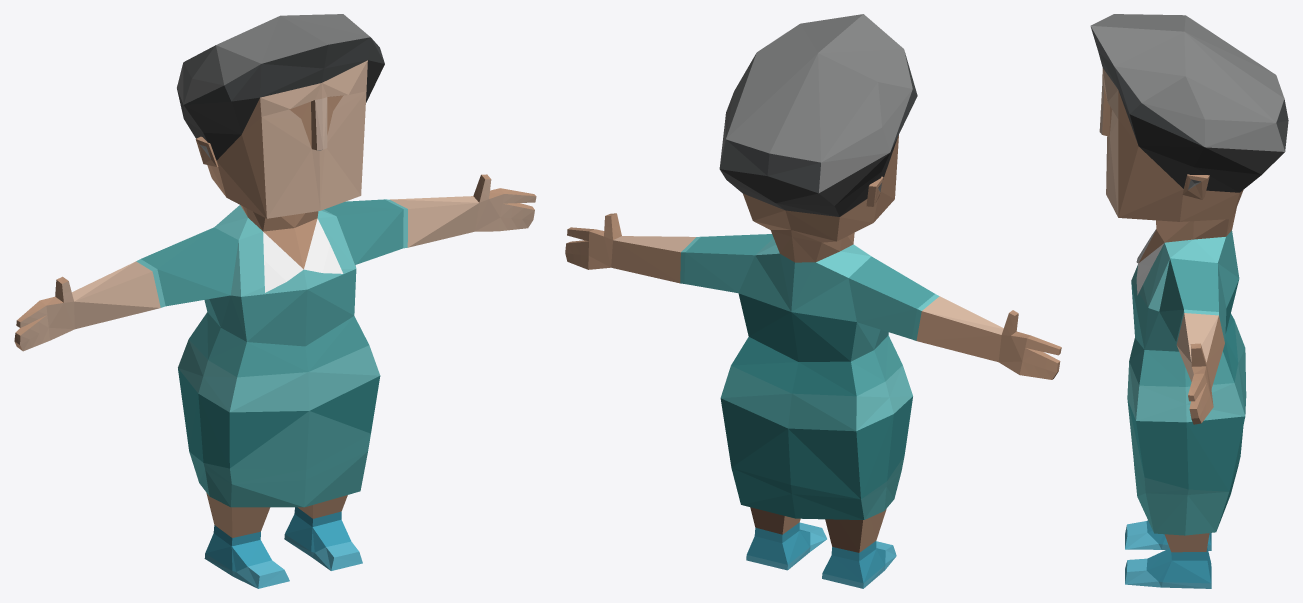
The model's file is isfj.glb.
3 renders of one model, left to right at view 1: azimuth 30°, elevation 25°; view 2: azimuth 150°, elevation 25°; view 3: azimuth 270°, elevation 25°, orthographic. The views are drawn at different scales.
Parts seen in each view (by area): view 1: isfj; view 2: isfj; view 3: isfj.
Boxes of the visible parts, box(x1,y1,x2,y2) form: isfj: box(14, 14, 536, 588); isfj: box(565, 14, 1061, 588); isfj: box(1090, 14, 1288, 588).
Size of the model in its own units: 9.43 by 9.48 by 3.19.
2 materials, 2 textured.
